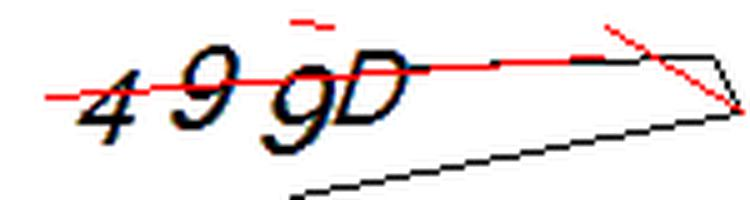4: (72, 64, 147, 150)
9: (255, 59, 346, 163), (163, 40, 246, 136)
D: (329, 44, 417, 132)
